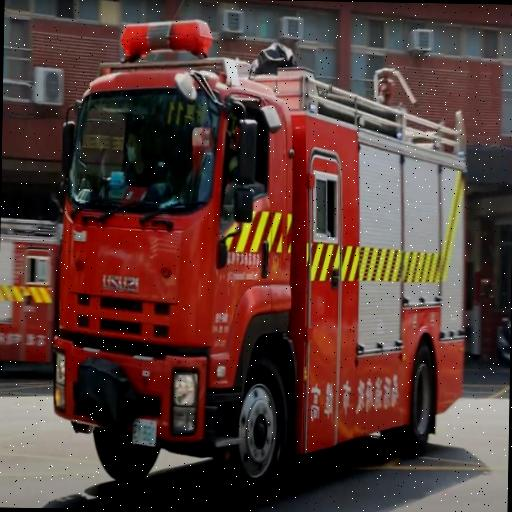fire truck: (0, 20, 466, 503)
